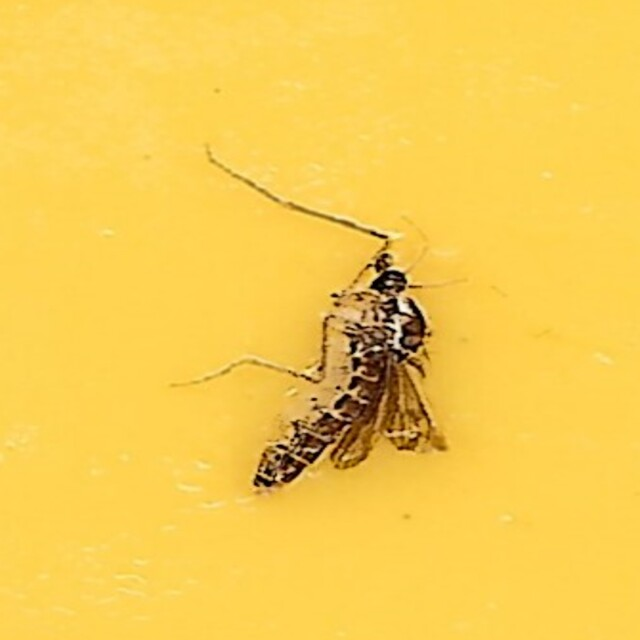Nematocera: (191, 146, 449, 494)
